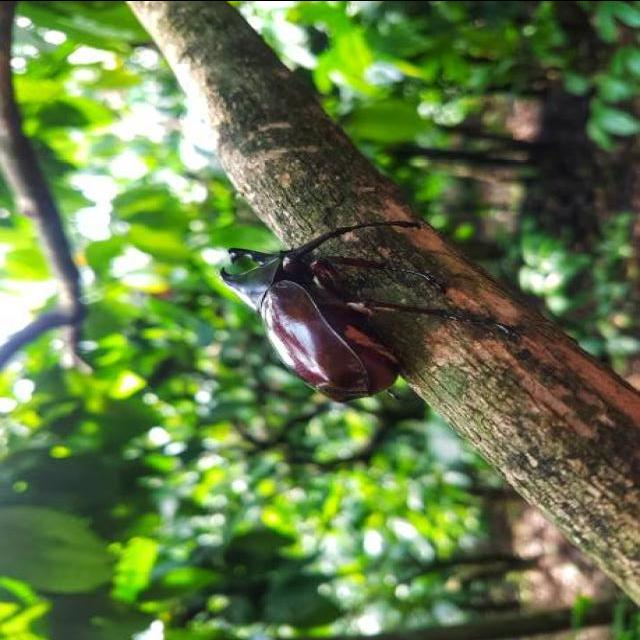Rhino-beetle: (212, 216, 402, 412)
